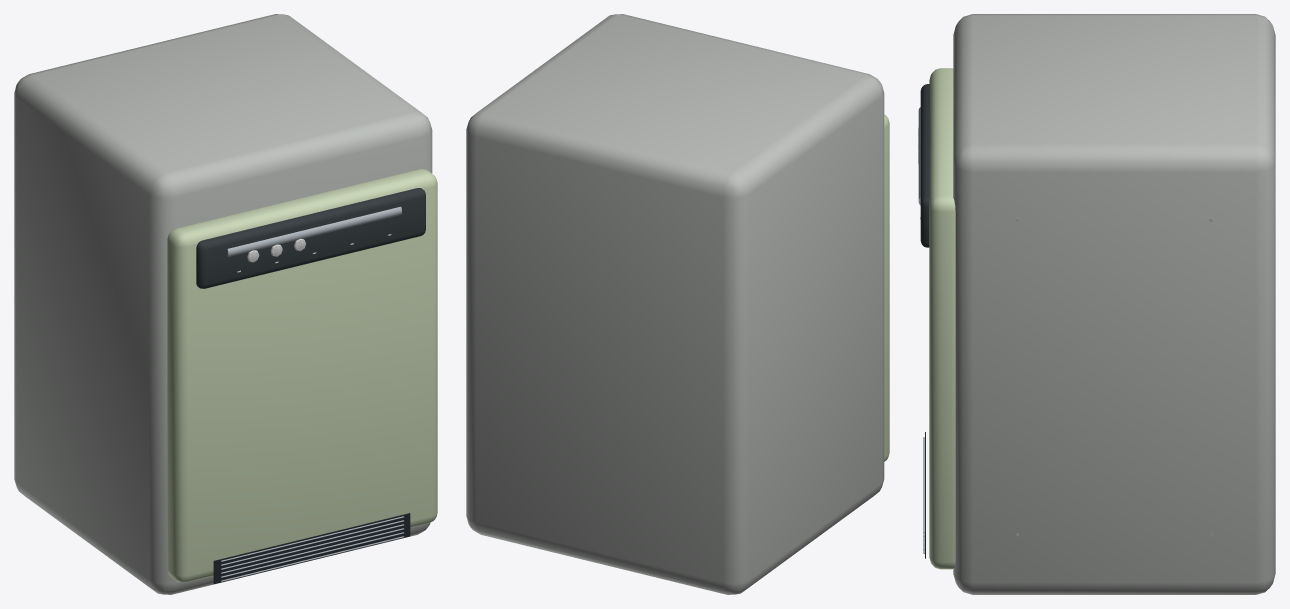
The model's file is dishwasher.glb.
The picture shows the model from 3 angles, left to right: view 1: azimuth 30°, elevation 25°; view 2: azimuth 150°, elevation 25°; view 3: azimuth 270°, elevation 25°; orthographic projection. The views are drawn at different scales.
Visible parts, largest first — view 1: catalog_surface_RealismUV, catalog_surface_UVMap; view 2: catalog_surface_RealismUV; view 3: catalog_surface_RealismUV, catalog_surface_UVMap.
Part boxes in pixels (x1=…): catalog_surface_RealismUV: x1=14, y1=14, x2=437, y2=594; catalog_surface_UVMap: x1=196, y1=188, x2=425, y2=288; catalog_surface_RealismUV: x1=466, y1=14, x2=889, y2=594; catalog_surface_RealismUV: x1=918, y1=14, x2=1275, y2=594; catalog_surface_UVMap: x1=920, y1=84, x2=929, y2=247.
Bounding box in the file's own units: 0.6 × 0.86 × 0.62.
Materials: 7 (1 with a texture image).
